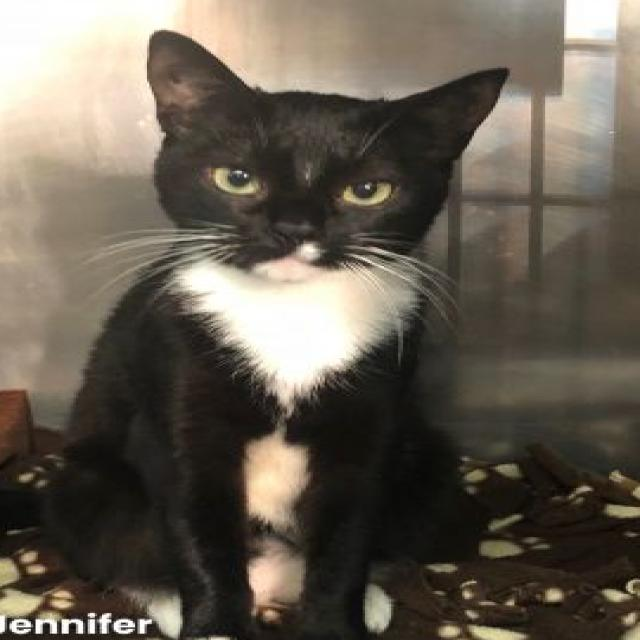Tuxedo: (36, 25, 516, 640)
